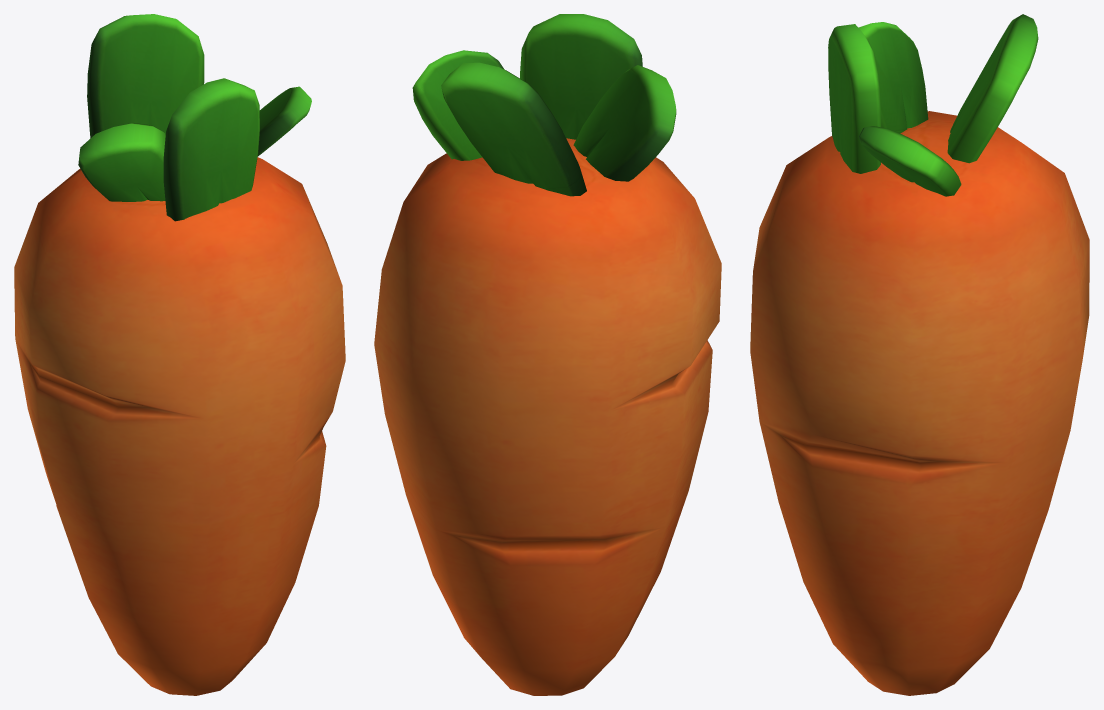
Rendered from carrot.fbx.
The picture shows the model from 3 angles, left to right: view 1: azimuth 30°, elevation 25°; view 2: azimuth 150°, elevation 25°; view 3: azimuth 270°, elevation 25°; orthographic projection. The views are drawn at different scales.
Parts seen in each view (by area): view 1: carrot; view 2: carrot; view 3: carrot.
Part boxes in pixels (x1,y1,x2,y2): carrot: (14, 14, 345, 695); carrot: (374, 14, 721, 695); carrot: (750, 14, 1089, 695).
Size of the model in its own units: 41.81 by 88.28 by 40.58.
